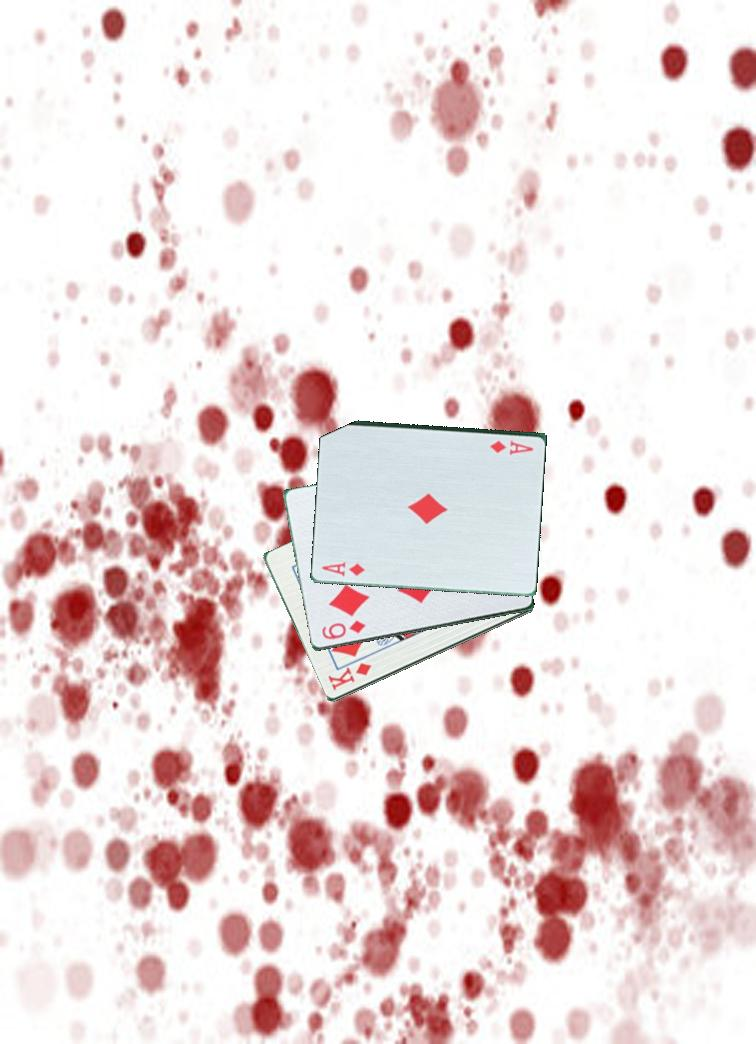6d: (318, 617, 368, 643)
ad: (483, 433, 541, 457), (318, 559, 368, 580)
kd: (325, 660, 374, 694)
